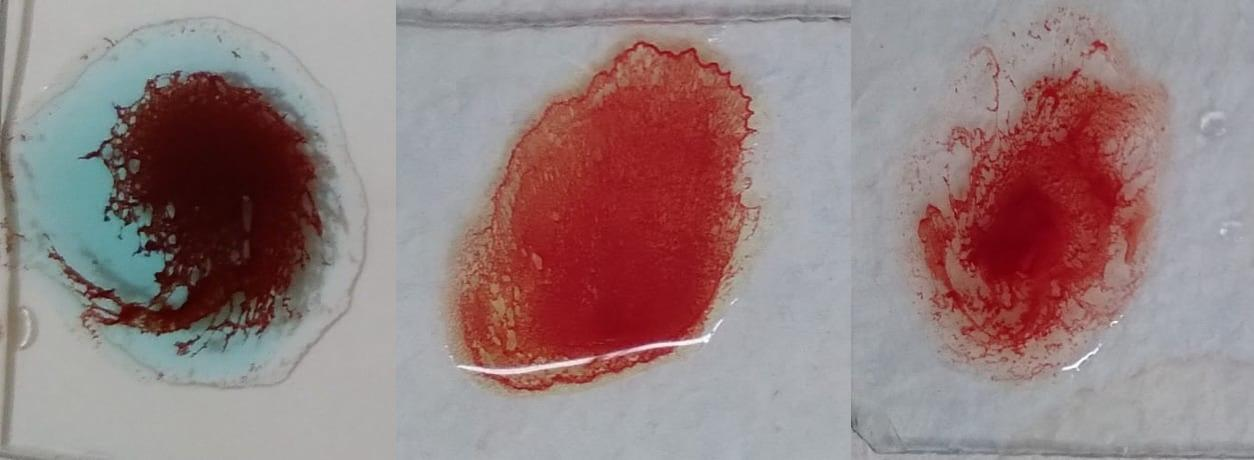A: (31, 19, 366, 390)
B: (450, 38, 757, 387)
D: (903, 18, 1180, 374)
